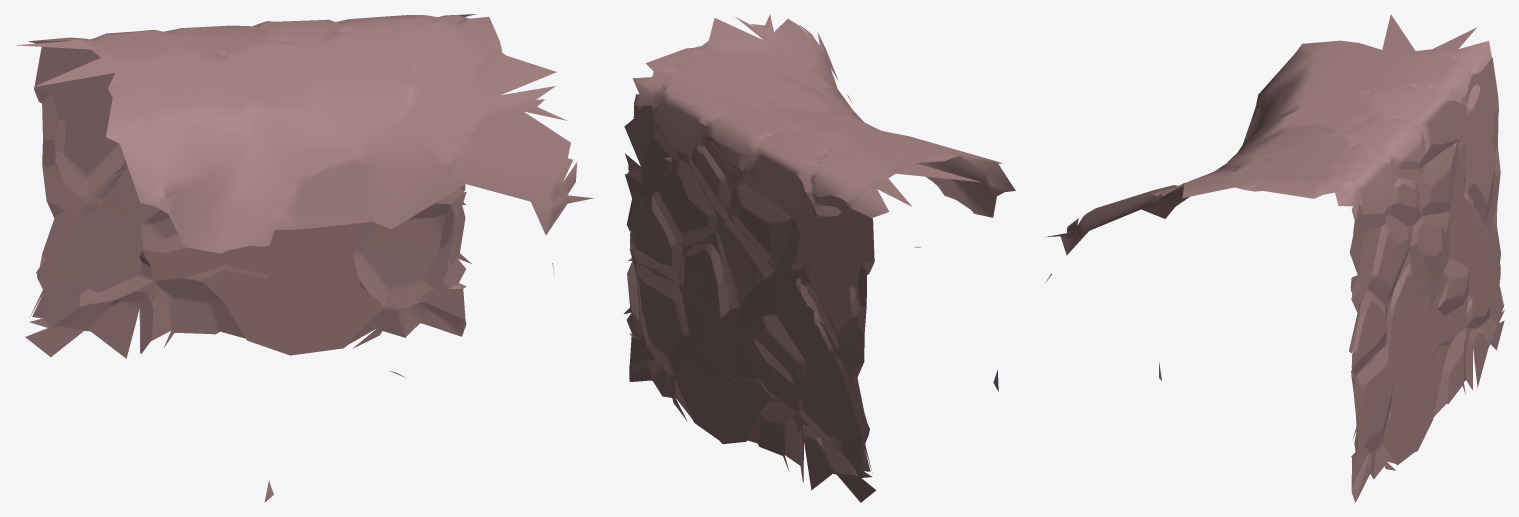
File: canyon.fbx_PolyShape__3__020LODs.fbx
3 views of the same model, side by side, from view 1: azimuth 30°, elevation 25°; view 2: azimuth 150°, elevation 25°; view 3: azimuth 270°, elevation 25° (orthographic). The views are drawn at different scales.
Visible parts, largest first — view 1: PolyShape (3).020_LOD0; view 2: PolyShape (3).020_LOD0; view 3: PolyShape (3).020_LOD0.
Boxes of the visible parts, bbox=[...] form: PolyShape (3).020_LOD0: bbox=[17, 14, 593, 502]; PolyShape (3).020_LOD0: bbox=[624, 14, 1015, 502]; PolyShape (3).020_LOD0: bbox=[1045, 14, 1504, 502].
Size of what is drawn, in the model's own units: 5019 by 4028 by 5237.
